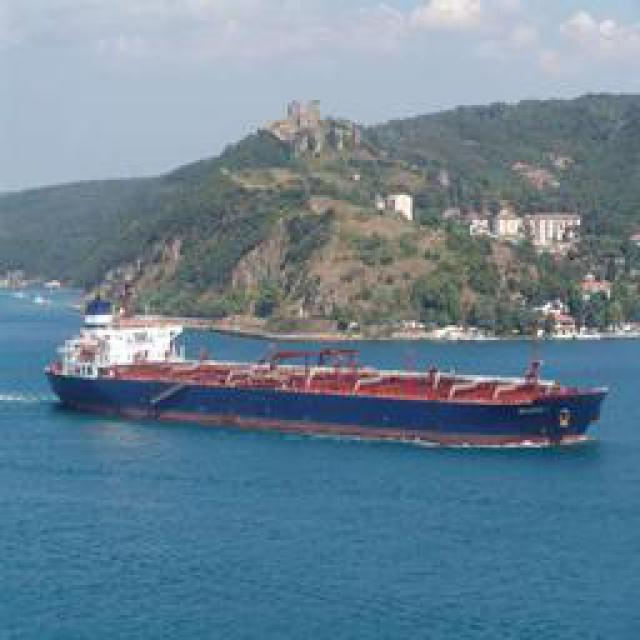Ship: (51, 330, 606, 445)
